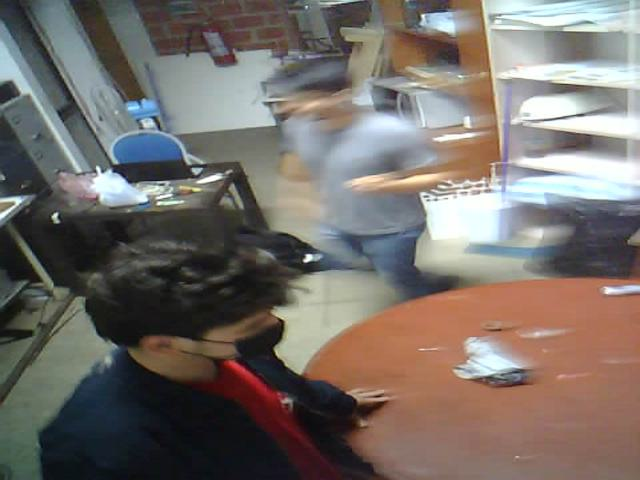person: (11, 192, 405, 480), (258, 39, 462, 314)
